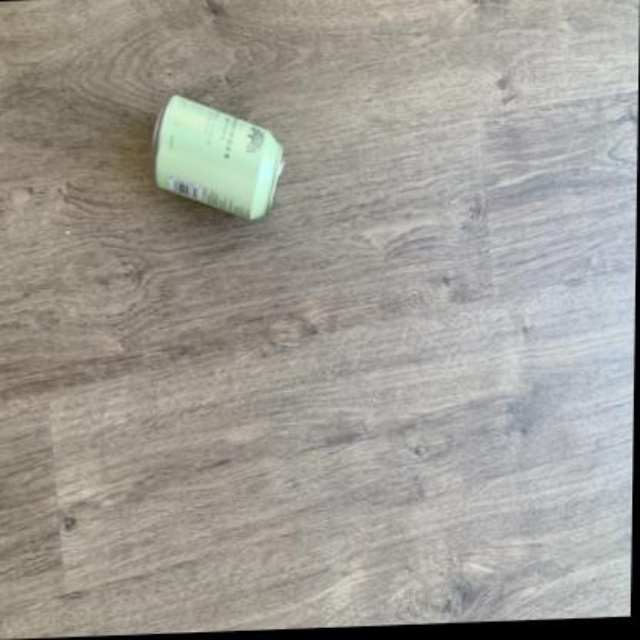trash: (154, 95, 282, 218)
